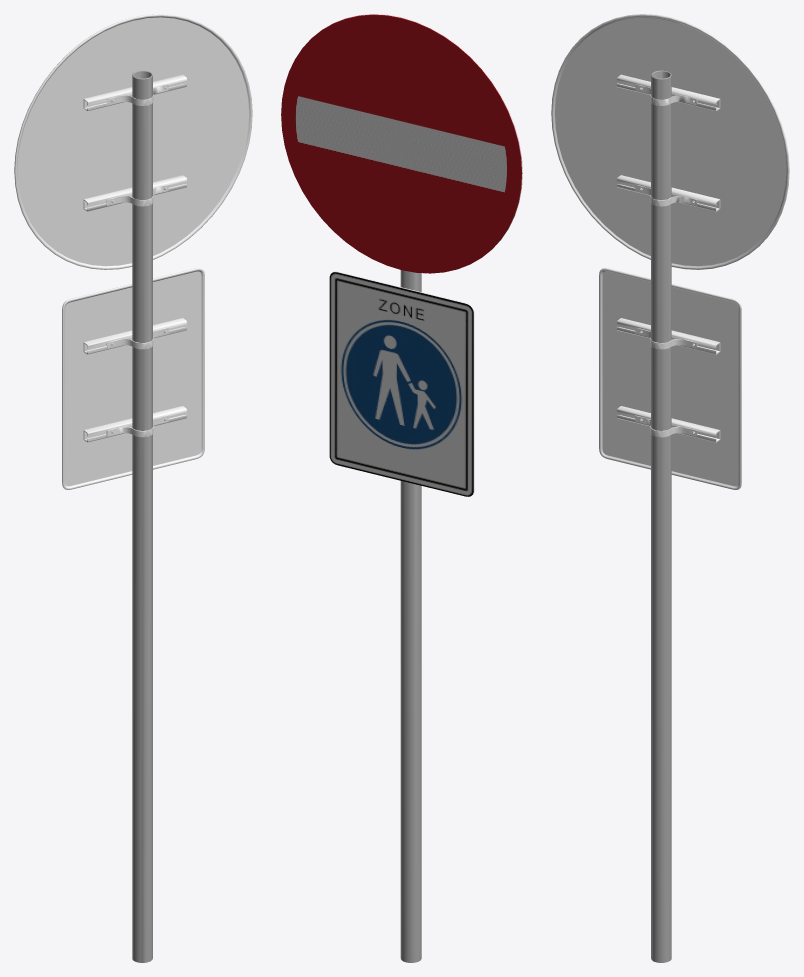
The model's file is o3_segnale_05.glb.
The picture shows the model from 3 angles, left to right: view 1: azimuth 30°, elevation 25°; view 2: azimuth 150°, elevation 25°; view 3: azimuth 330°, elevation 25°; orthographic projection.
Visible parts, largest first — view 1: sb_modello; view 2: sb_modello; view 3: sb_modello.
Part boxes in pixels (left/top/right/bottom): sb_modello: left=14, top=14, right=252, bottom=962; sb_modello: left=281, top=14, right=522, bottom=962; sb_modello: left=551, top=14, right=789, bottom=962.
Bounding box in the file's own units: 0.7672 × 2.88 × 0.0845.
6 materials, 2 textured.
